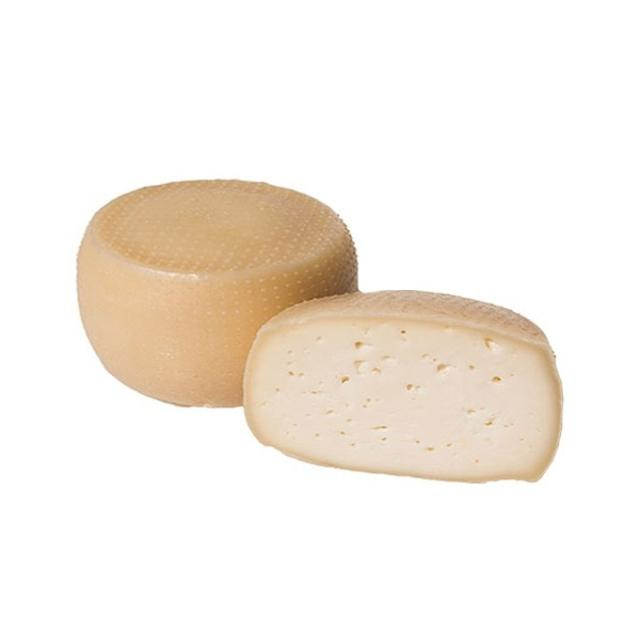Cheese: (69, 161, 367, 427), (244, 290, 564, 508)
